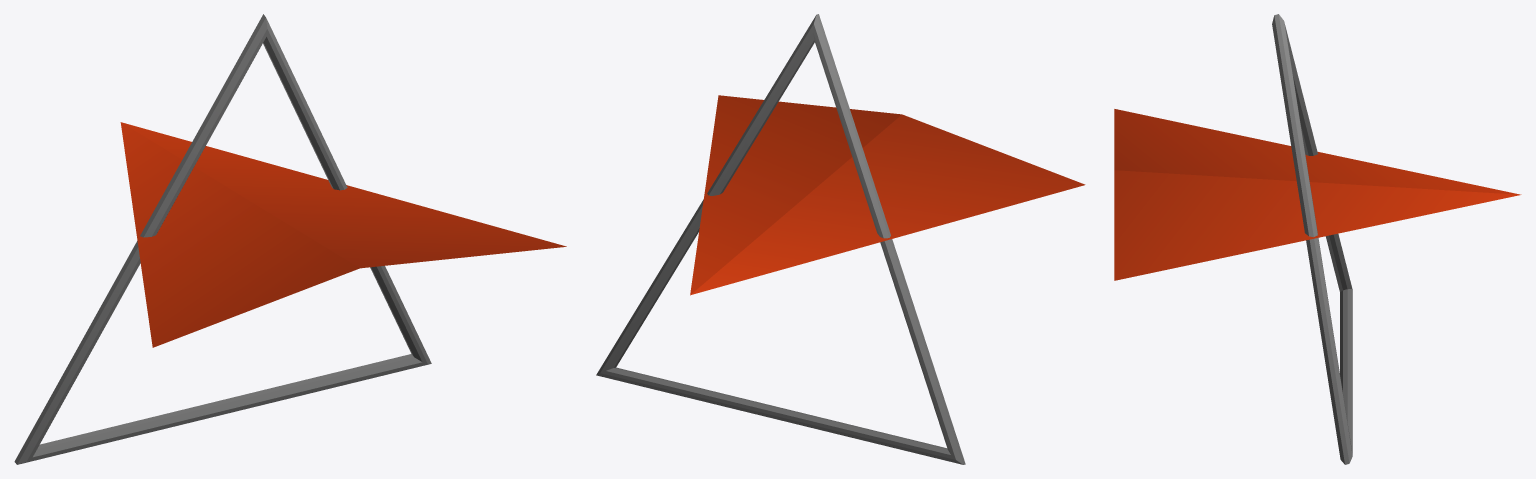
File: glider.glb
3 renders of one model, left to right at view 1: azimuth 30°, elevation 25°; view 2: azimuth 150°, elevation 25°; view 3: azimuth 270°, elevation 25°, orthographic. The views are drawn at different scales.
Visible parts, largest first — view 1: triangle, armature; view 2: triangle, armature; view 3: triangle, armature.
Part boxes in pixels (x1,y1,x2,y2): triangle: (120, 122, 566, 347); armature: (14, 14, 431, 464); triangle: (690, 95, 1085, 295); armature: (596, 14, 965, 464); triangle: (1114, 109, 1521, 280); armature: (1272, 14, 1352, 464).
Bounding box in the file's own units: 2 × 1.98 × 2.
Materials: 1 (1 with a texture image).
